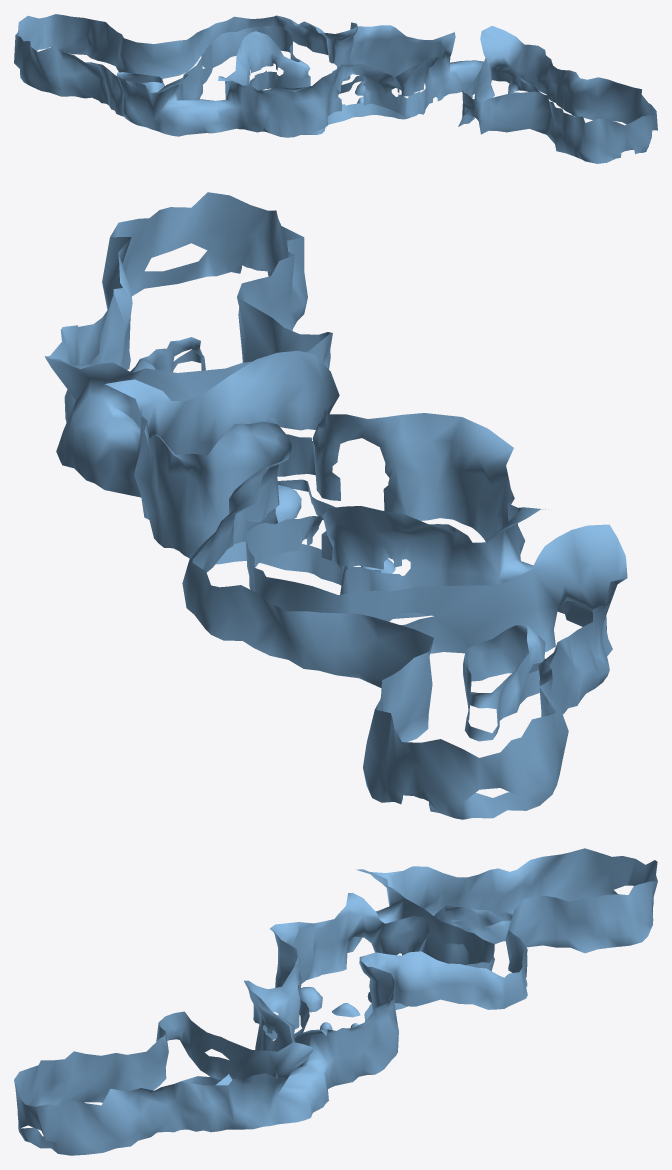
The model's file is cluster_3.fbx.
3 views of the same model, one above another, from view 1: azimuth 30°, elevation 25°; view 2: azimuth 150°, elevation 25°; view 3: azimuth 270°, elevation 25° (orthographic). The views are drawn at different scales.
Parts seen in each view (by area): view 1: cluster_3; view 2: cluster_3; view 3: cluster_3.
Part boxes in pixels (<box>): cluster_3: <box>14,14,657,163</box>; cluster_3: <box>44,192,627,819</box>; cluster_3: <box>14,848,657,1155</box>.
Size of the model in its own units: 1291484 by 195933 by 1367869.
